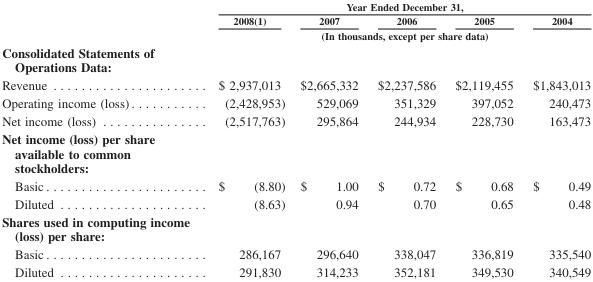table: (1, 0, 590, 279)
table column: (1, 0, 175, 279), (175, 0, 292, 279), (444, 0, 522, 279), (367, 0, 444, 279), (292, 0, 367, 279), (522, 0, 590, 279)
table column header: (1, 0, 590, 42)
table projected row header: (1, 129, 590, 176), (1, 42, 590, 75), (1, 212, 590, 244)
table row: (1, 129, 590, 176), (1, 42, 590, 75), (1, 212, 590, 244), (1, 244, 590, 263), (1, 75, 590, 93), (1, 93, 590, 111), (1, 111, 590, 129), (1, 176, 590, 194), (1, 194, 590, 212), (1, 263, 590, 279), (1, 27, 590, 42), (1, 13, 590, 27), (1, 0, 590, 13)
table spanning cell: (175, 27, 590, 42), (175, 0, 590, 13)
